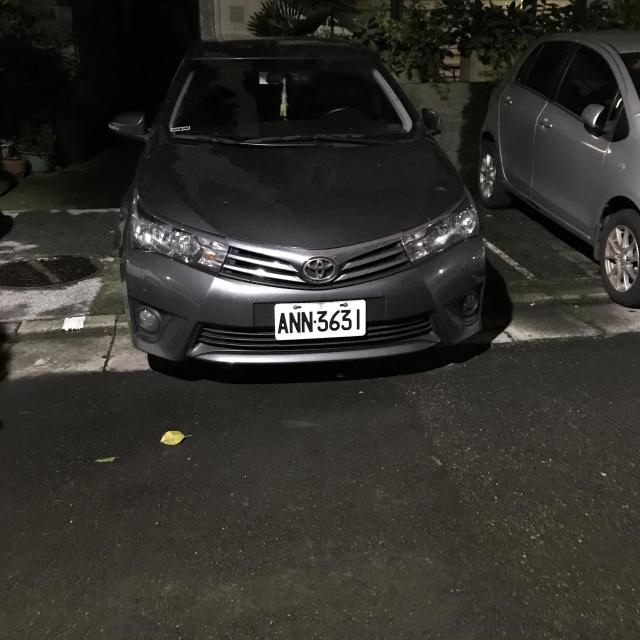W: (268, 294, 373, 345)
